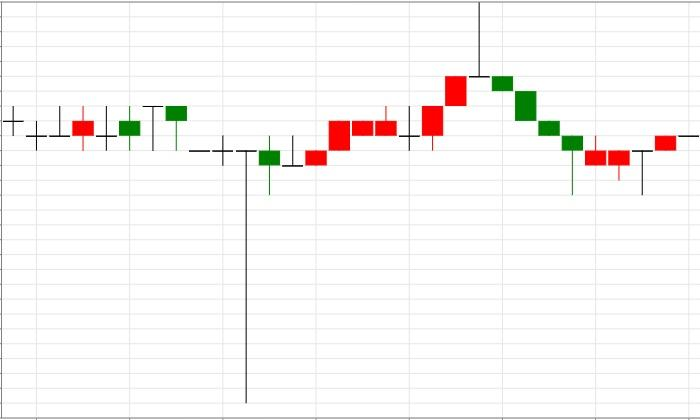evening_star_fall: (258, 1, 514, 196)
hammer_rise: (469, 1, 584, 195)
three_black_crows_fall: (259, 2, 561, 196)
